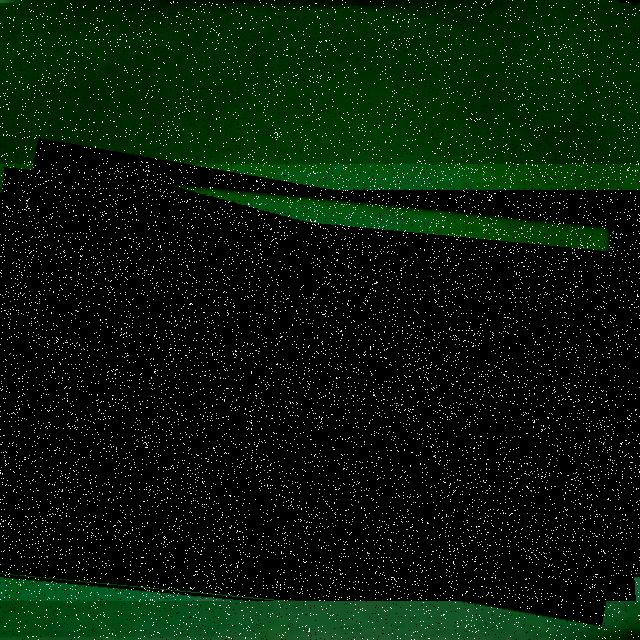dua ribu rupiah: (0, 164, 640, 601)
